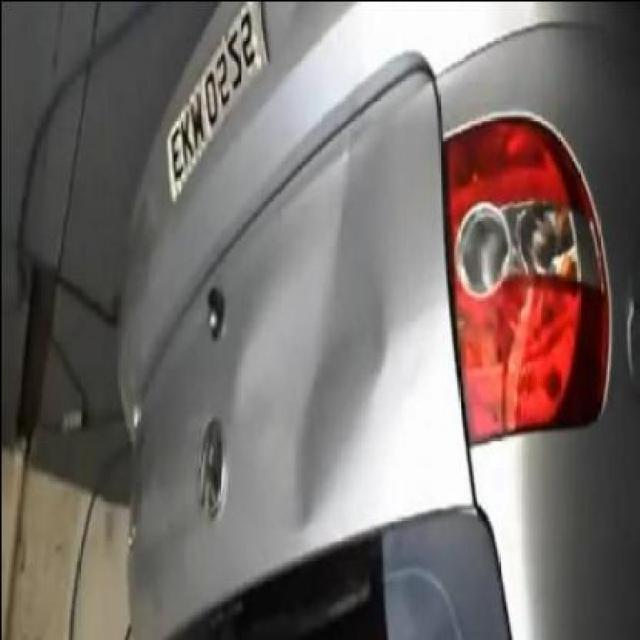damage: (230, 127, 390, 515)
